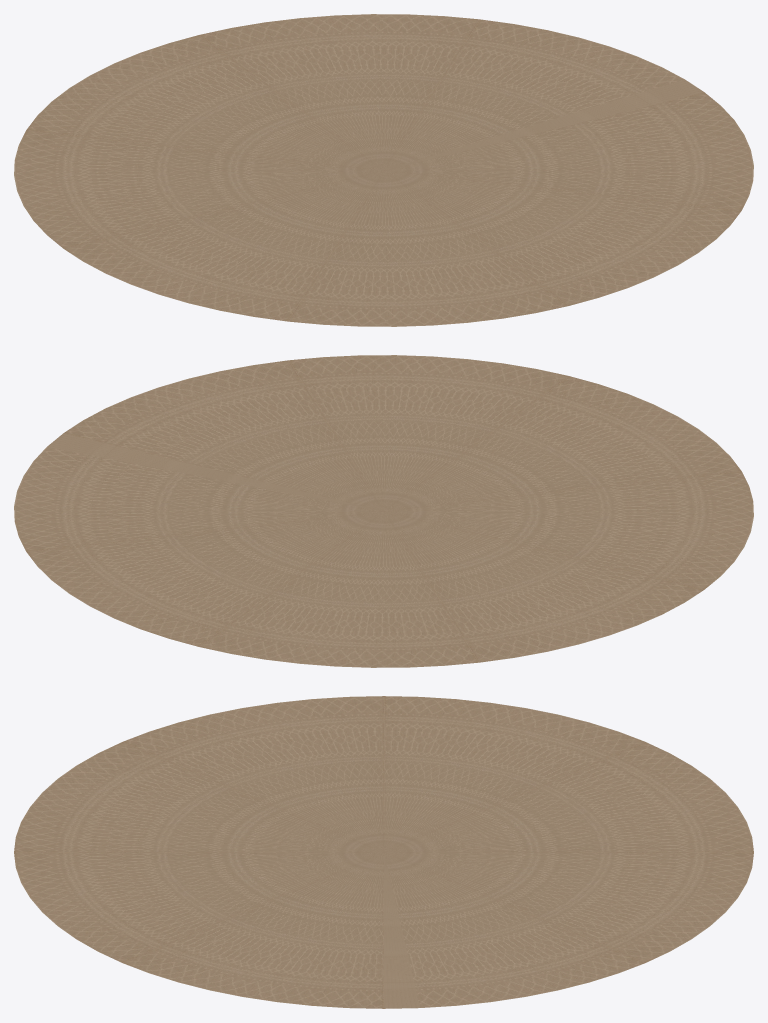
File: rug_round_maple_overlay.glb
The picture shows the model from 3 angles, top to bottom: view 1: azimuth 30°, elevation 25°; view 2: azimuth 150°, elevation 25°; view 3: azimuth 270°, elevation 25°; orthographic projection.
Visible parts, largest first — view 1: RoundRug; view 2: RoundRug; view 3: RoundRug.
Part boxes in pixels (x1=…): RoundRug: x1=14, y1=14, x2=753, y2=326; RoundRug: x1=14, y1=355, x2=753, y2=667; RoundRug: x1=14, y1=696, x2=753, y2=1008.
Bounding box in the file's own units: 2 × 0 × 2.
1 material, 1 textured.
